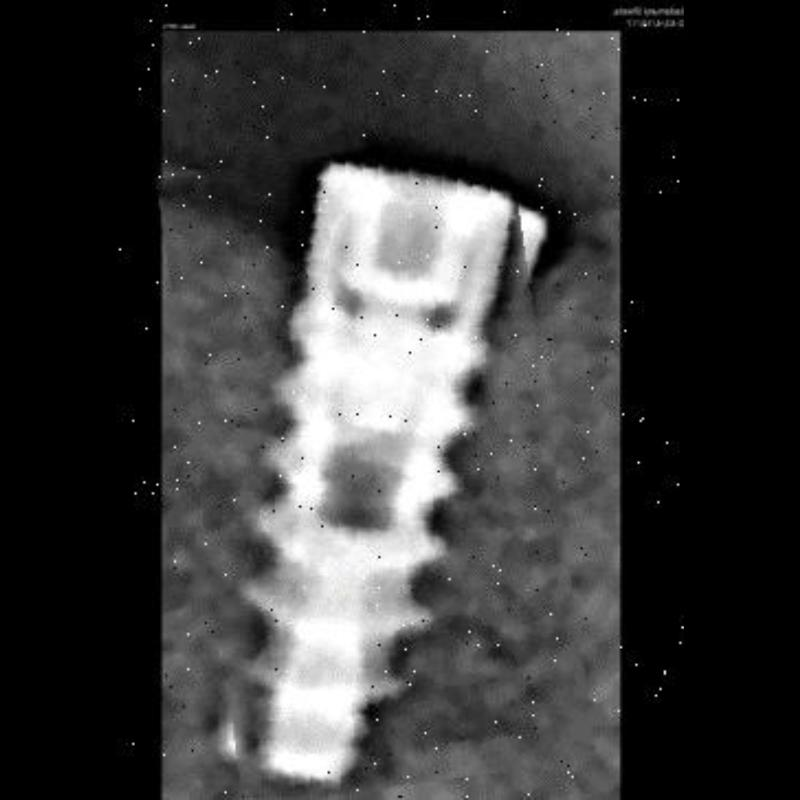NORIS: (176, 141, 574, 797)
